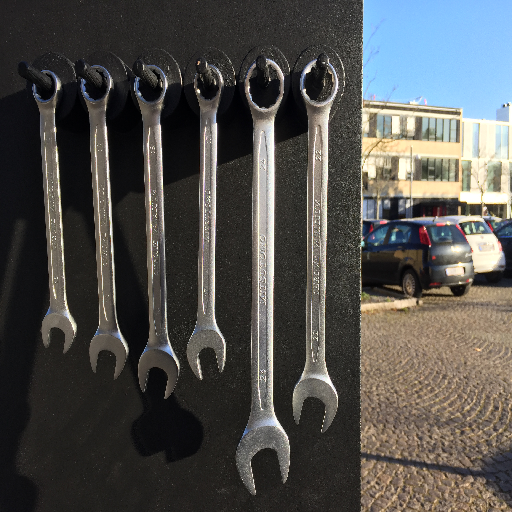bottom: (234, 418, 292, 497), (290, 370, 341, 436), (135, 346, 182, 402), (185, 324, 229, 383), (87, 330, 131, 381), (41, 305, 79, 355)
top: (242, 56, 288, 118), (298, 56, 341, 115), (131, 64, 171, 110), (78, 62, 116, 110), (191, 61, 225, 109), (27, 66, 64, 109)
